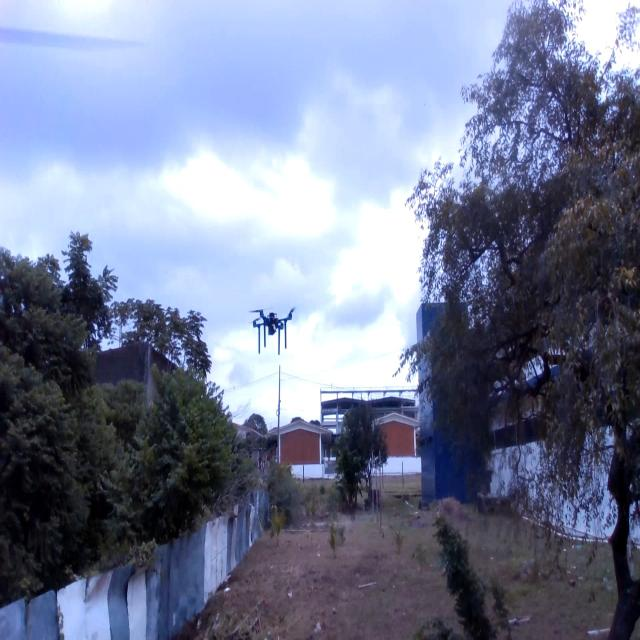-uav-: (242, 299, 301, 360)
